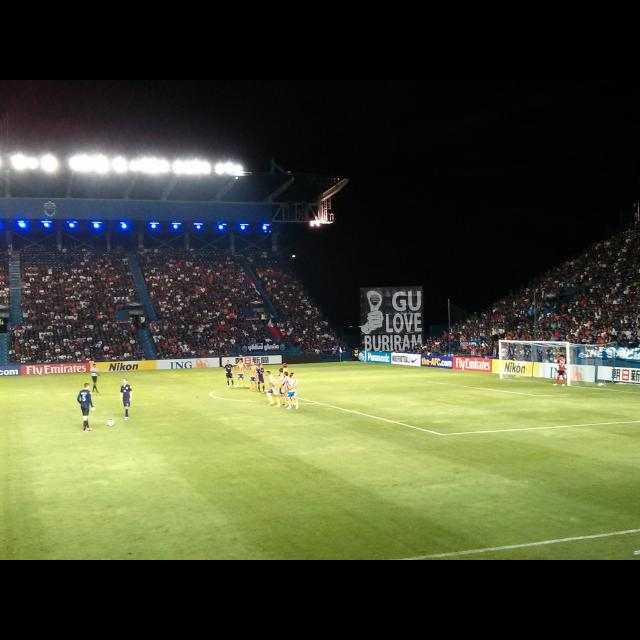Football: (106, 419, 112, 425)
